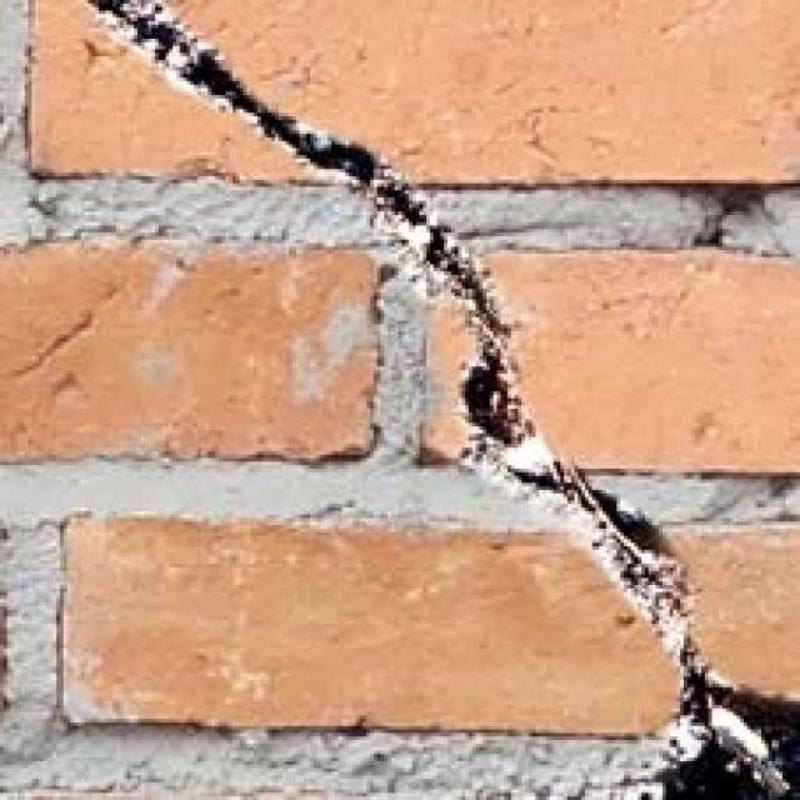pothole: (90, 0, 522, 446), (664, 672, 800, 799), (506, 459, 669, 555)
